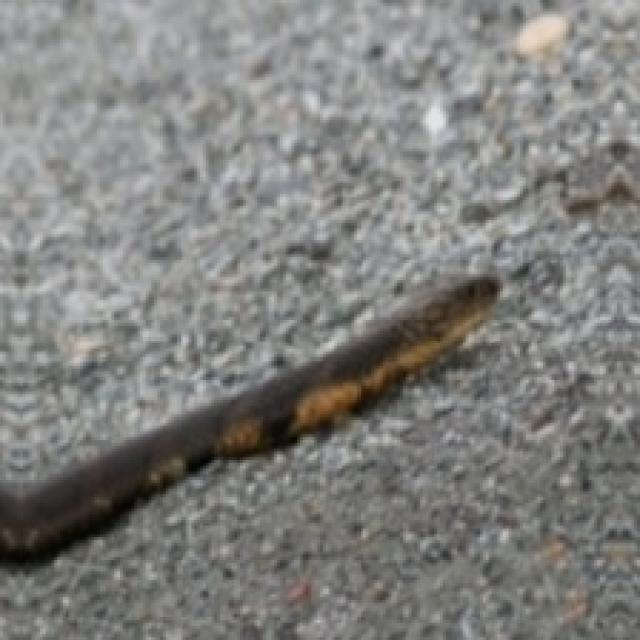king cobra: (0, 274, 500, 560)
